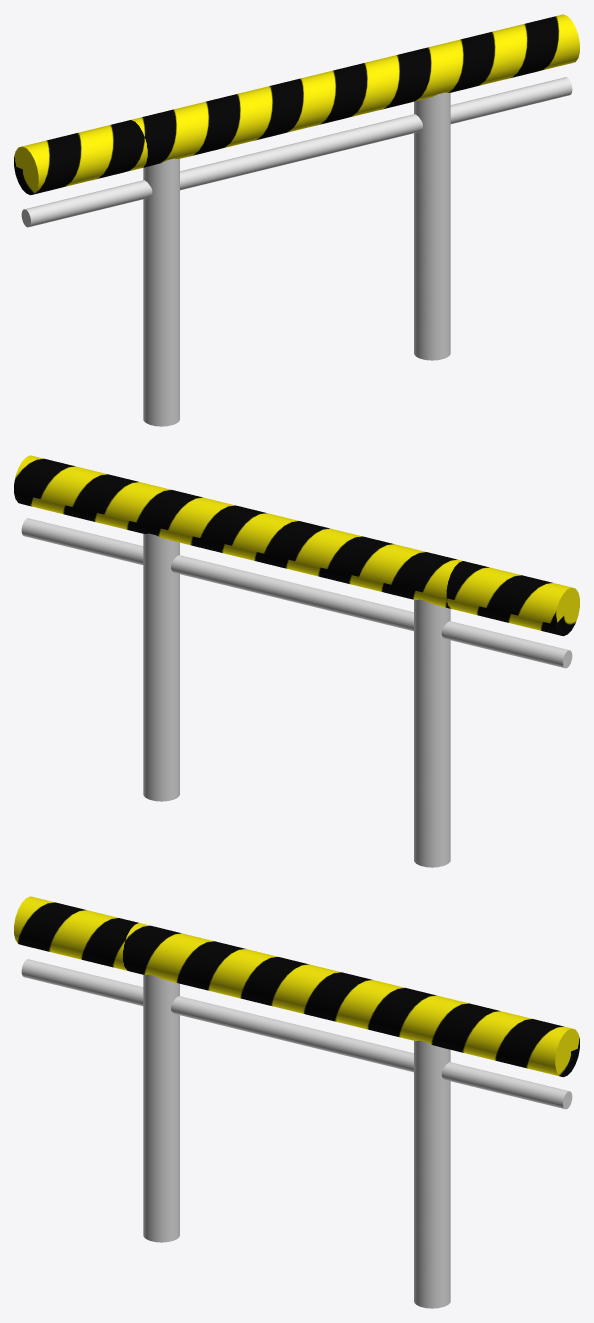
Rendered from fence2.FBX.
3 views of the same model, one above another, from view 1: azimuth 30°, elevation 25°; view 2: azimuth 150°, elevation 25°; view 3: azimuth 330°, elevation 25° (orthographic).
Visible parts, largest first — view 1: Cylinder001, Cylinder004, Cylinder003, Cylinder002; view 2: Cylinder001, Cylinder004, Cylinder003, Cylinder002; view 3: Cylinder001, Cylinder004, Cylinder002, Cylinder003.
Part boxes in pixels (left/top/right/bottom): Cylinder001: left=14, top=14, right=579, bottom=195; Cylinder004: left=21, top=77, right=572, bottom=227; Cylinder003: left=414, top=92, right=450, bottom=360; Cylinder002: left=143, top=158, right=179, bottom=426; Cylinder001: left=14, top=455, right=579, bottom=636; Cylinder004: left=21, top=518, right=572, bottom=668; Cylinder003: left=143, top=533, right=179, bottom=801; Cylinder002: left=414, top=599, right=450, bottom=867; Cylinder001: left=14, top=896, right=579, bottom=1077; Cylinder004: left=21, top=959, right=572, bottom=1109; Cylinder002: left=143, top=974, right=179, bottom=1242; Cylinder003: left=414, top=1040, right=450, bottom=1308.
Size of the model in its own units: 20 by 10.71 by 1.58.
